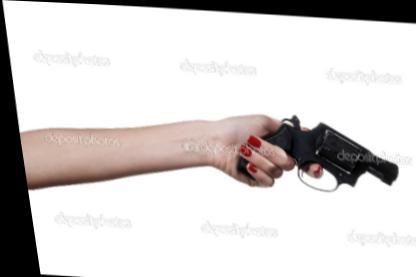pistol: (224, 106, 395, 198)
